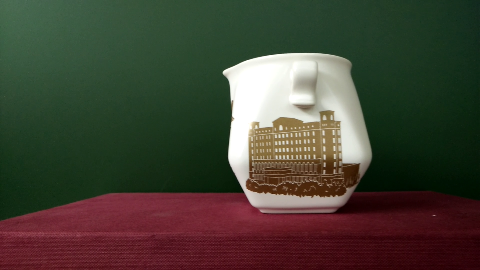law: (256, 130, 347, 192)
